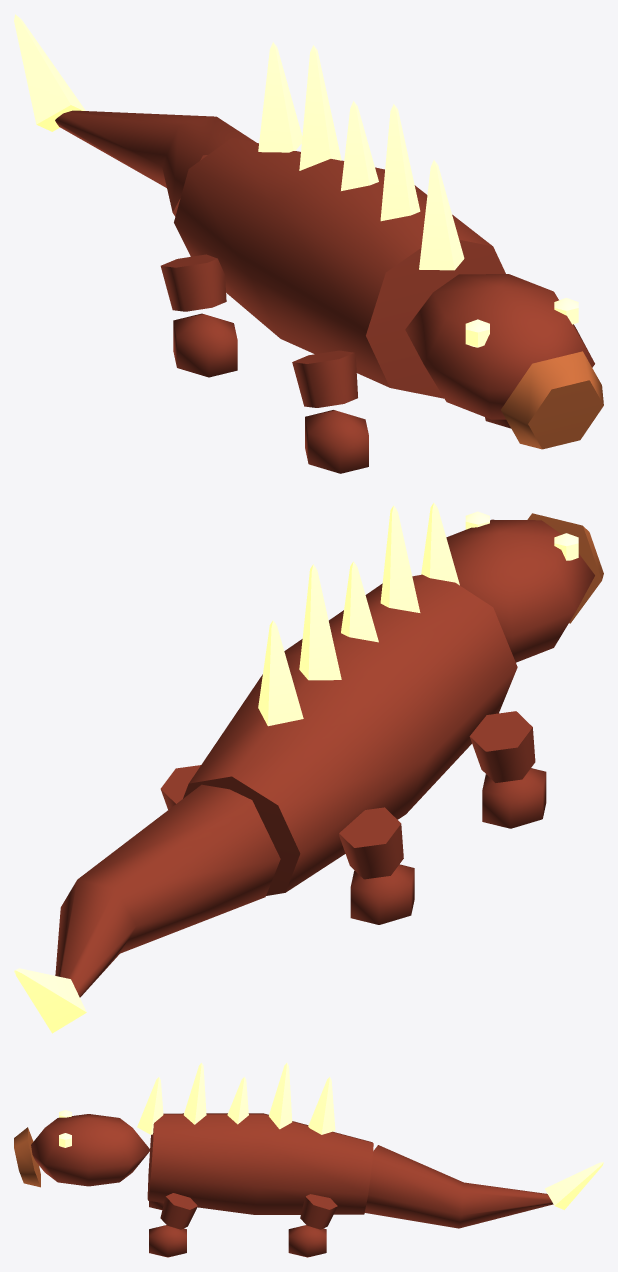
File: spirit-salamander.glb
The picture shows the model from 3 angles, top to bottom: view 1: azimuth 30°, elevation 25°; view 2: azimuth 150°, elevation 25°; view 3: azimuth 270°, elevation 25°; orthographic projection. The views are drawn at different scales.
Parts seen in each view (by area): view 1: body, head, tail, leg_fr, leg_br, glow_eyes; view 2: body, tail, head, leg_fr, leg_br, leg_bl, glow_eyes; view 3: body, tail, head, leg_bl, leg_fl.
Boxes of the visible parts, x1,y1,x2,y2 form: body: (174, 42, 505, 398); head: (405, 274, 603, 449); tail: (14, 14, 256, 216); leg_fr: (292, 350, 368, 473); leg_br: (160, 254, 237, 377); glow_eyes: (465, 298, 578, 347); body: (183, 503, 517, 895); tail: (14, 784, 280, 1033); head: (446, 513, 603, 662); leg_fr: (469, 711, 546, 828); leg_br: (339, 807, 414, 924); leg_bl: (160, 765, 200, 809); glow_eyes: (465, 511, 578, 560); body: (137, 1062, 373, 1214); tail: (364, 1145, 603, 1228); head: (14, 1114, 150, 1187); leg_bl: (288, 1194, 337, 1257); leg_fl: (149, 1193, 197, 1257).
Size of the model in its own units: 0.185 by 0.2448 by 0.76.
